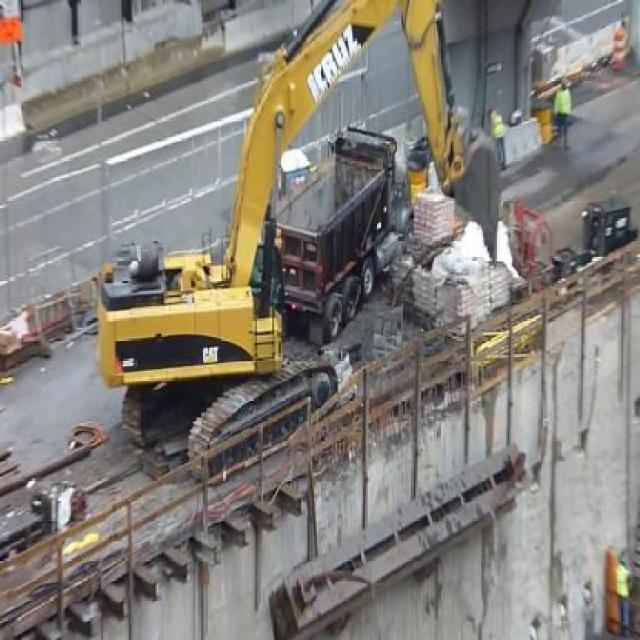dump_truck: (264, 123, 414, 346)
excavator: (96, 0, 502, 488)
